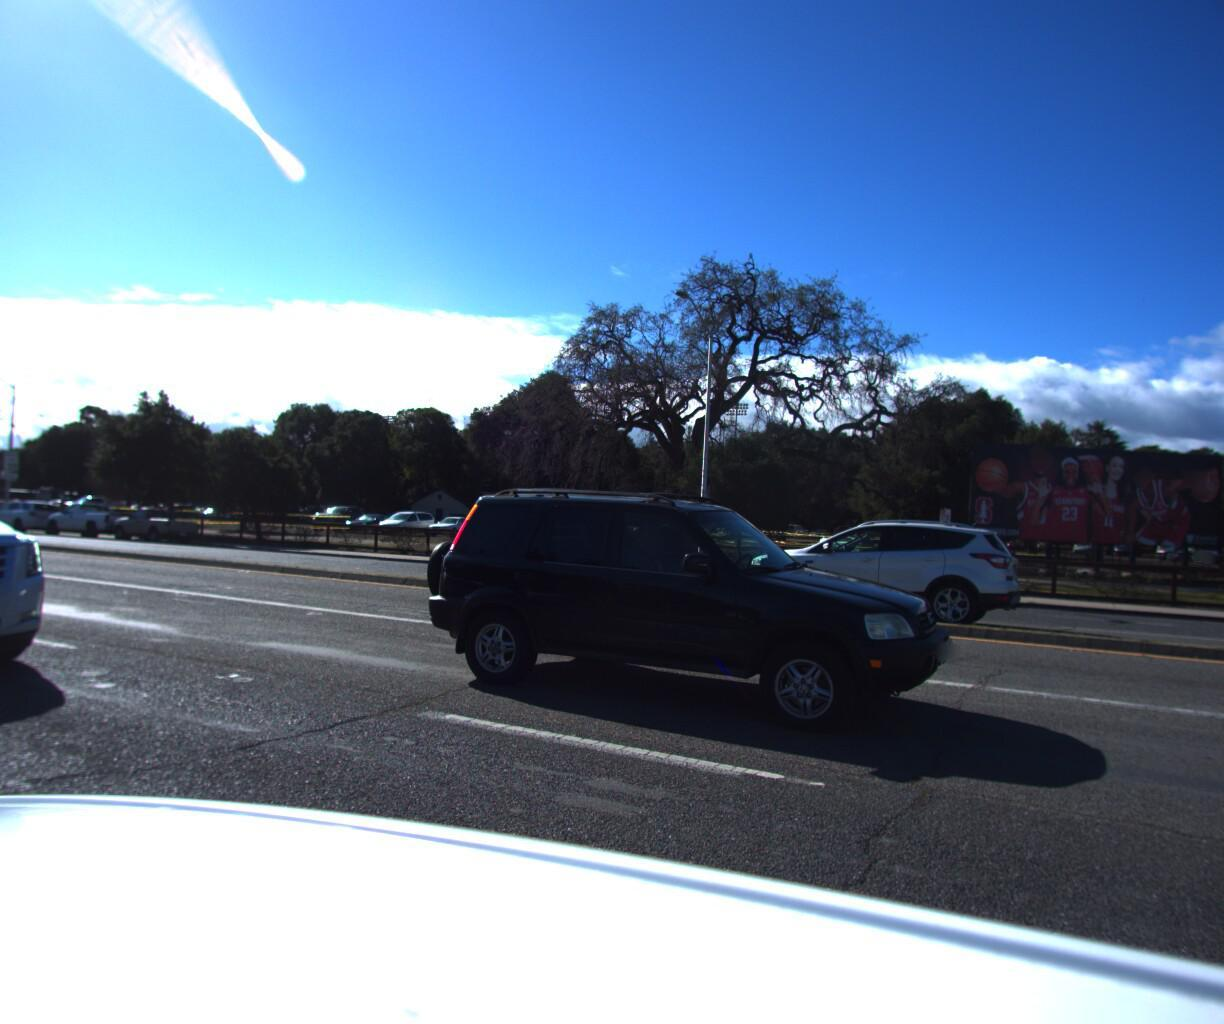car: (399, 472, 977, 756), (753, 506, 1046, 630), (0, 419, 83, 735), (40, 494, 149, 539), (107, 499, 206, 542), (0, 493, 70, 531)
